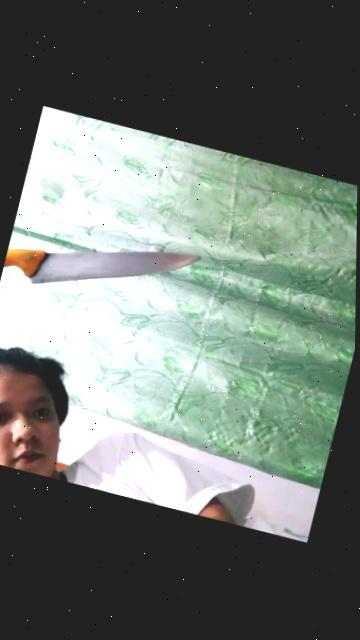long knife: (0, 204, 205, 353)
